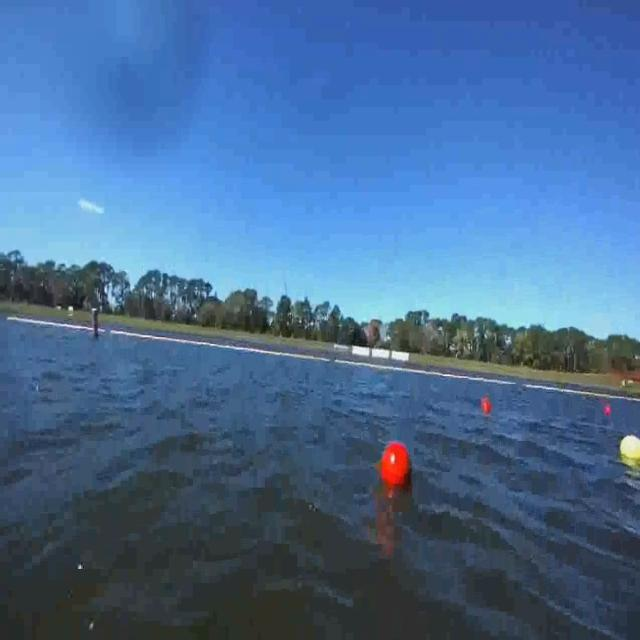red-buoy: (379, 441, 410, 492), (483, 401, 493, 417)
yellow-buoy: (619, 437, 640, 463)
